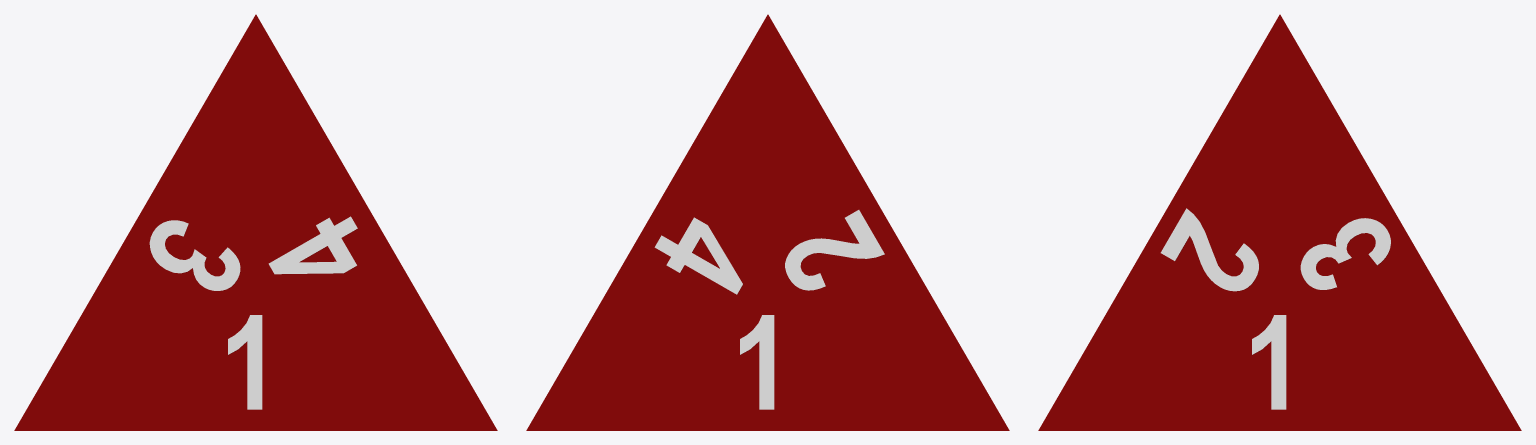
File: Boardgame_Dice_D4_Red_01.fbx
3 renders of one model, left to right at view 1: azimuth 30°, elevation 25°; view 2: azimuth 150°, elevation 25°; view 3: azimuth 270°, elevation 25°, orthographic.
Visible parts, largest first — view 1: Boardgame_Dice_D4_Red_01; view 2: Boardgame_Dice_D4_Red_01; view 3: Boardgame_Dice_D4_Red_01.
Boxes of the visible parts, x1=… form: Boardgame_Dice_D4_Red_01: x1=14, y1=14, x2=497, y2=430; Boardgame_Dice_D4_Red_01: x1=526, y1=14, x2=1009, y2=430; Boardgame_Dice_D4_Red_01: x1=1038, y1=14, x2=1521, y2=430.
Bounding box in the file's own units: 46.19 × 43.55 × 53.34.
